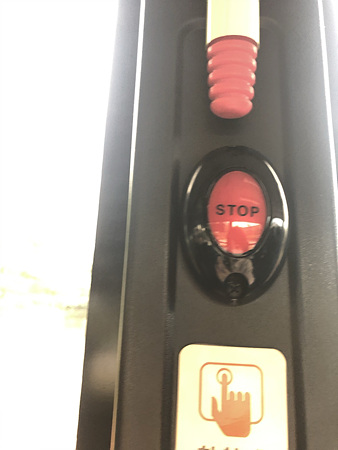bell: (181, 147, 289, 303)
